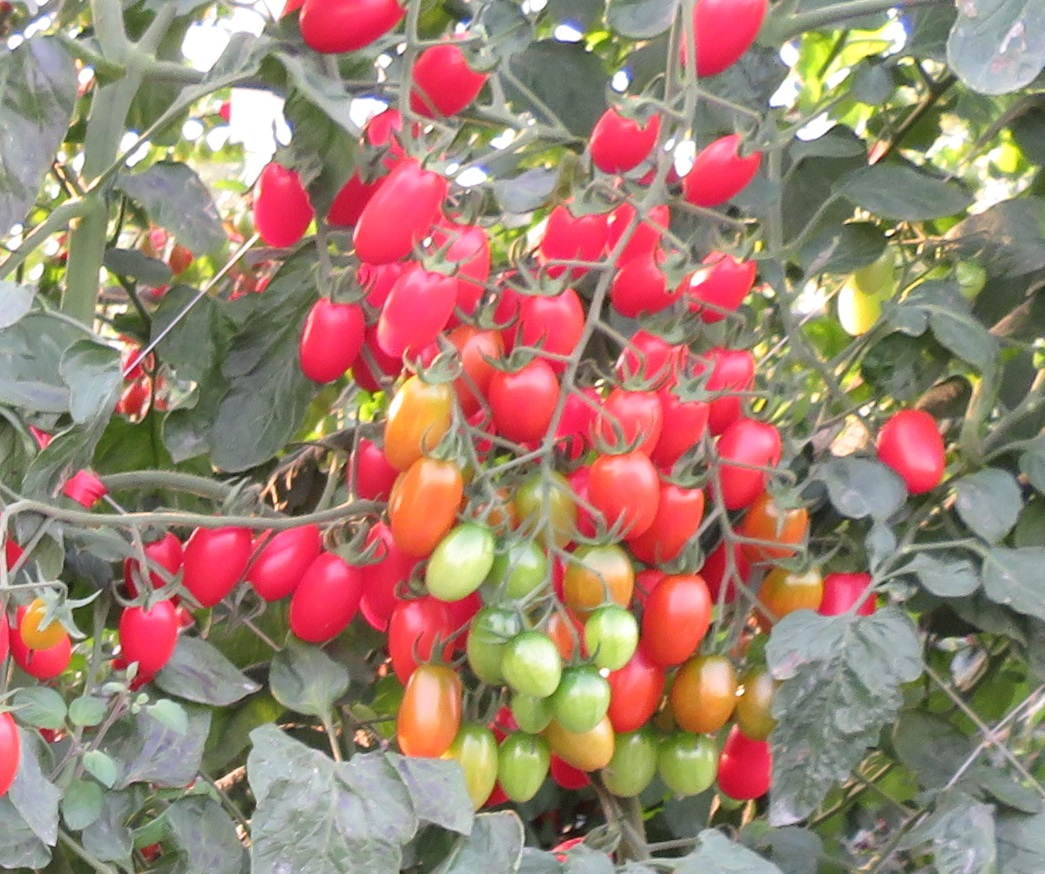green: (421, 517, 500, 603), (658, 730, 717, 805), (565, 548, 639, 606), (504, 631, 561, 698), (578, 606, 638, 665), (556, 668, 614, 729), (603, 730, 658, 794), (467, 605, 505, 689), (503, 738, 547, 803), (505, 540, 548, 605), (466, 720, 500, 797)
orange: (375, 362, 464, 477), (392, 456, 467, 562), (643, 574, 708, 674), (483, 357, 565, 435), (666, 653, 741, 734), (400, 667, 462, 757), (21, 590, 73, 651), (763, 573, 821, 610)
red: (348, 166, 446, 263), (377, 251, 460, 365), (290, 543, 374, 650), (403, 32, 493, 121), (538, 182, 622, 277), (500, 277, 596, 357), (178, 513, 261, 603), (674, 131, 766, 212), (252, 147, 320, 253), (301, 285, 366, 388), (247, 522, 324, 608), (713, 418, 783, 512), (589, 96, 666, 178), (681, 1, 775, 68), (389, 597, 455, 681), (117, 591, 174, 687), (690, 247, 763, 320), (879, 409, 942, 489), (297, 1, 393, 53), (608, 254, 684, 319), (594, 459, 658, 535), (447, 211, 492, 314), (116, 530, 182, 590), (601, 387, 658, 456), (698, 344, 755, 412), (719, 743, 777, 808), (619, 329, 687, 384), (718, 739, 776, 802), (661, 384, 706, 459), (665, 481, 703, 558), (823, 571, 875, 619), (1, 708, 19, 803), (116, 384, 146, 419)
